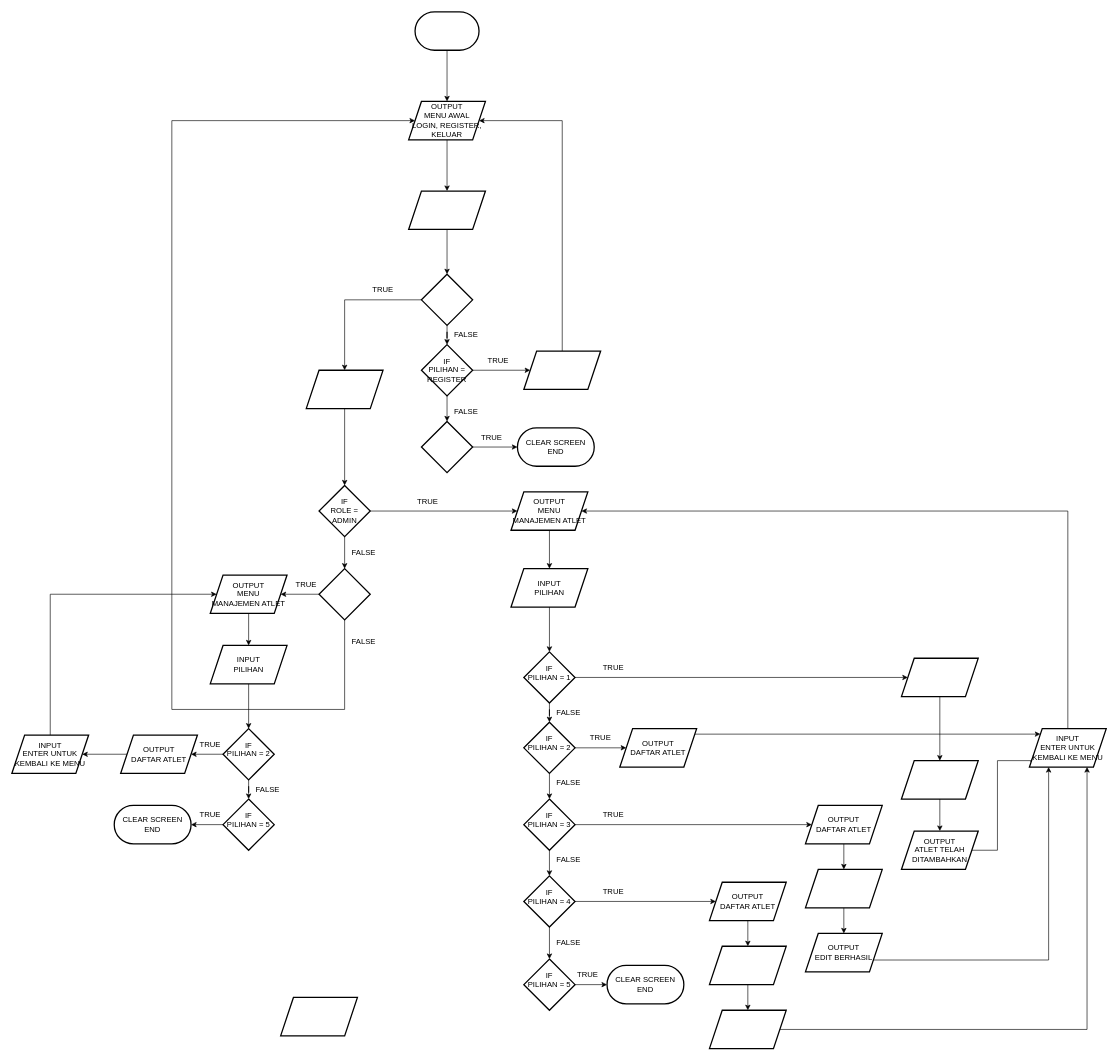
This 1117x1060 diagram has some shape labels left out. Each missing label, with the box of its shape:
IF PILIHAN = KELUAR: (420, 420, 473, 473)
IF PILIHAN = LOGIN: (420, 273, 473, 326)
IF ROLE = USER: (318, 568, 371, 620)
INPUT DATA DIRI ATLET: (900, 760, 979, 799)
INPUT PILIHAN ATLET UNTUK DI EDIT: (804, 868, 883, 908)
INPUT PILIHAN ATLET UNTUK DI HAPUS: (708, 945, 787, 985)
INPUT PILIHAN MENU AWAL: (408, 190, 486, 230)
INPUT USERNAME BARU PASSWORD BARU: (523, 350, 601, 390)
INPUT USERNAME PASSWORD: (305, 369, 383, 409)
OUTPUT HAPUS BERHASIL: (708, 1009, 787, 1049)
OUTPUT TAMBAH ATLET BARU: (900, 657, 979, 697)
OUTPUT TERIMA KASIH: (280, 996, 358, 1036)
START: (414, 11, 479, 51)
